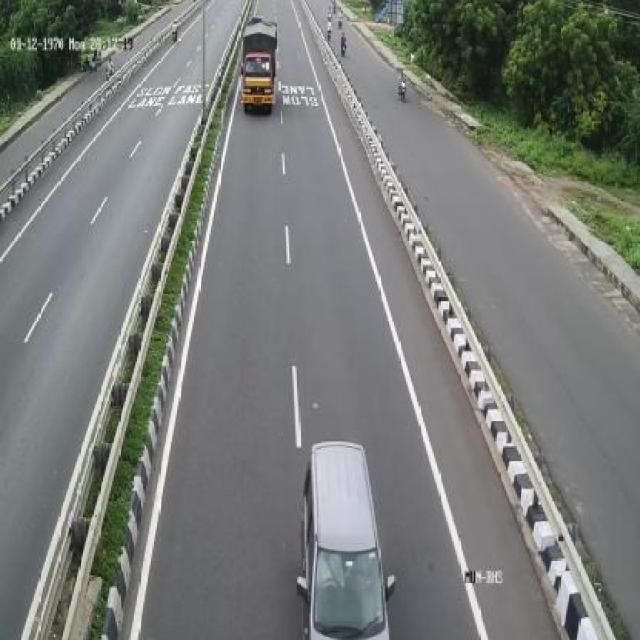car: (304, 438, 396, 640)
